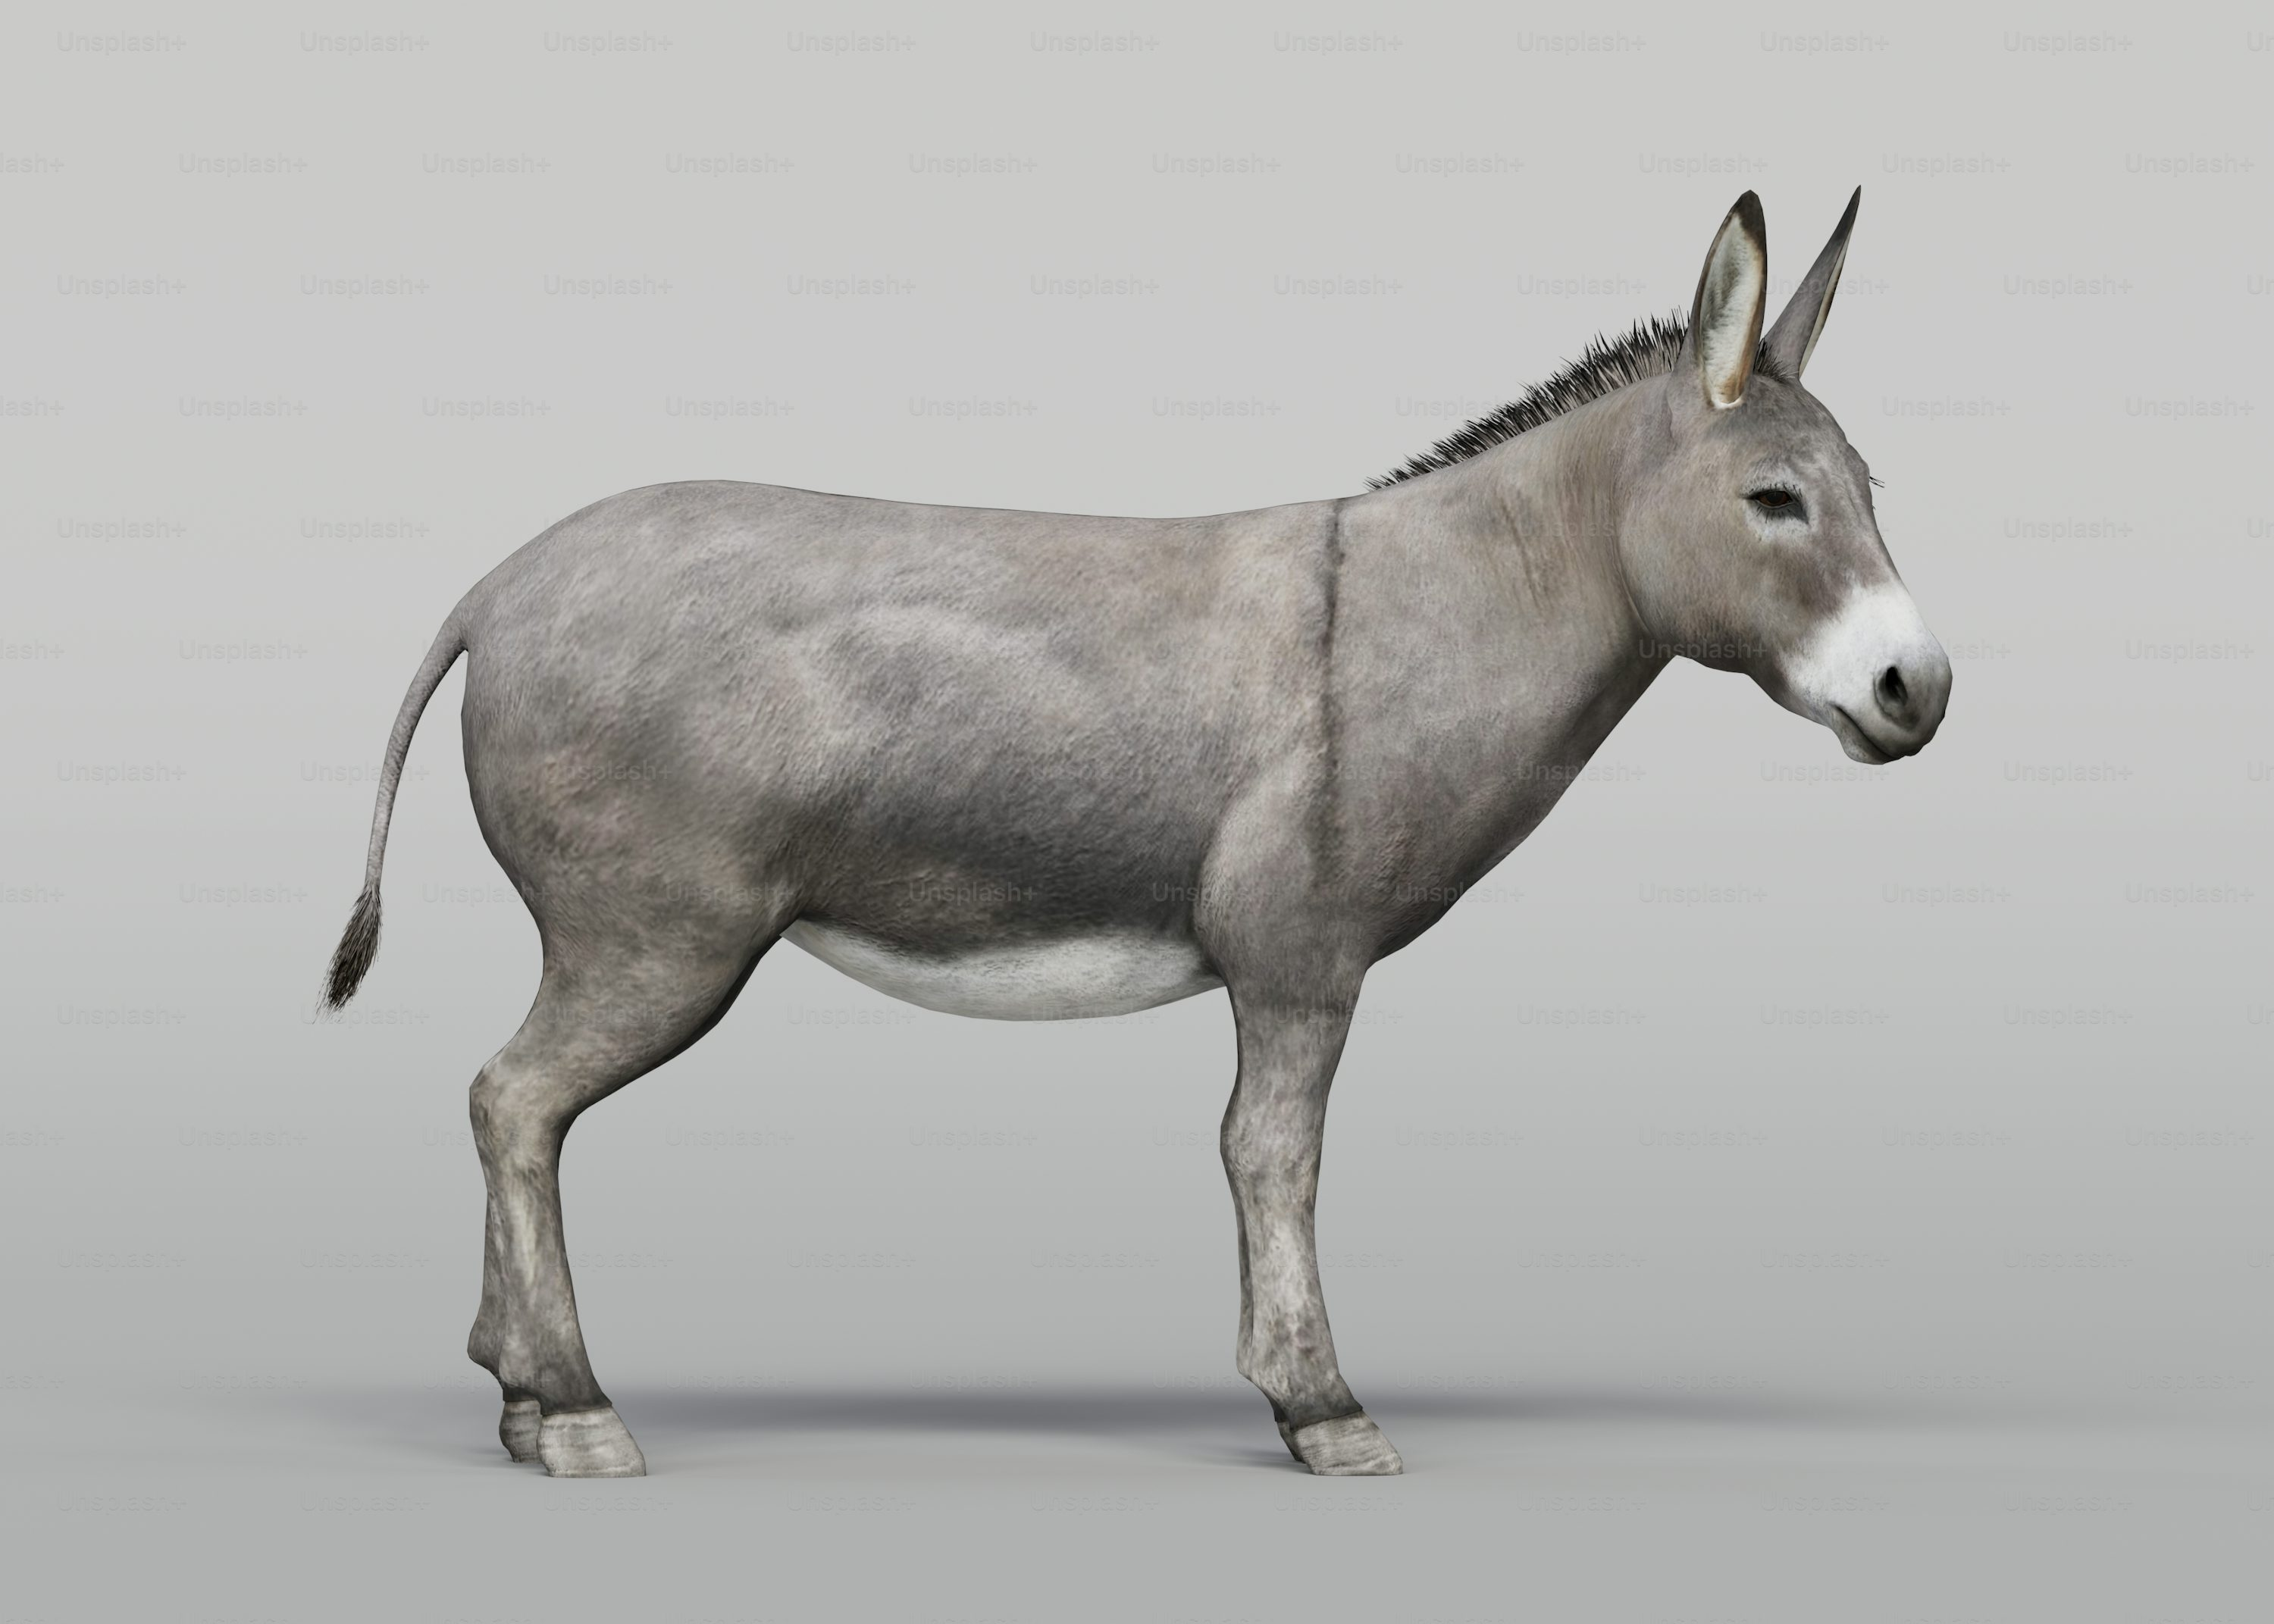donkey: (202, 336, 1984, 1571)
